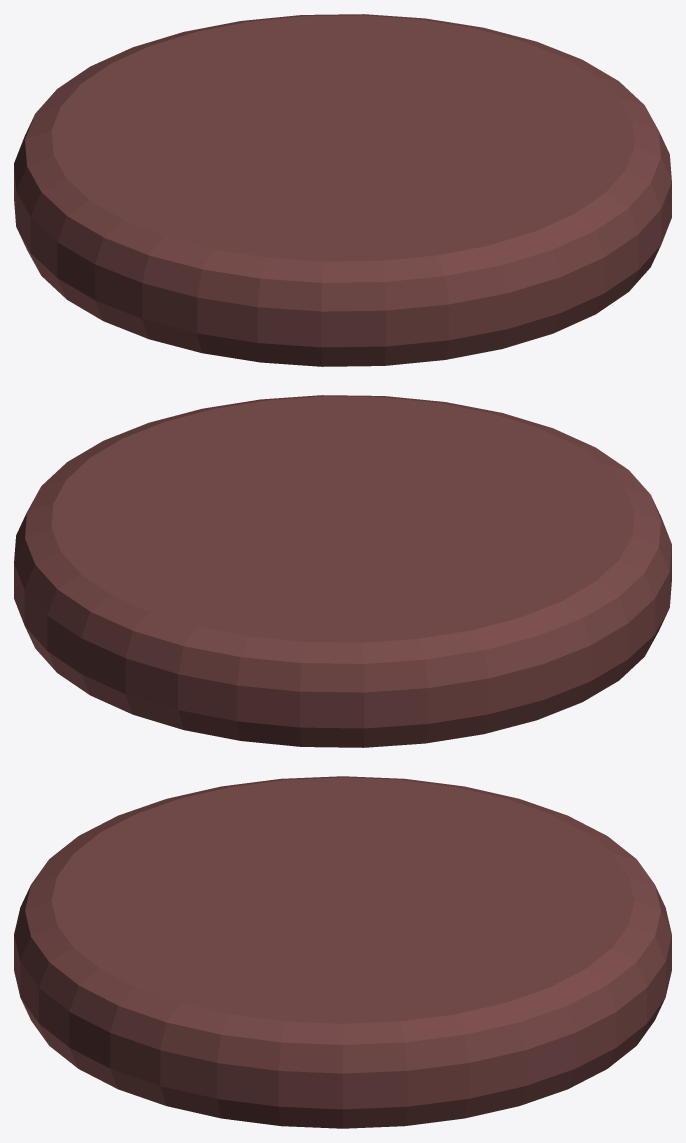
The model's file is food_pişmiş.fbx.
The picture shows the model from 3 angles, top to bottom: view 1: azimuth 30°, elevation 25°; view 2: azimuth 150°, elevation 25°; view 3: azimuth 270°, elevation 25°; orthographic projection.
Parts seen in each view (by area): view 1: meat; view 2: meat; view 3: meat.
Part boxes in pixels (<box>): meat: <box>14,14,671,366</box>; meat: <box>14,395,671,747</box>; meat: <box>14,776,671,1128</box>.
Size of the model in its own units: 176 by 30.58 by 176.
